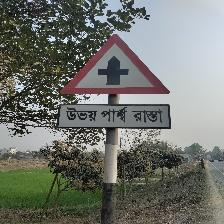Crossroad: (57, 32, 179, 137)
